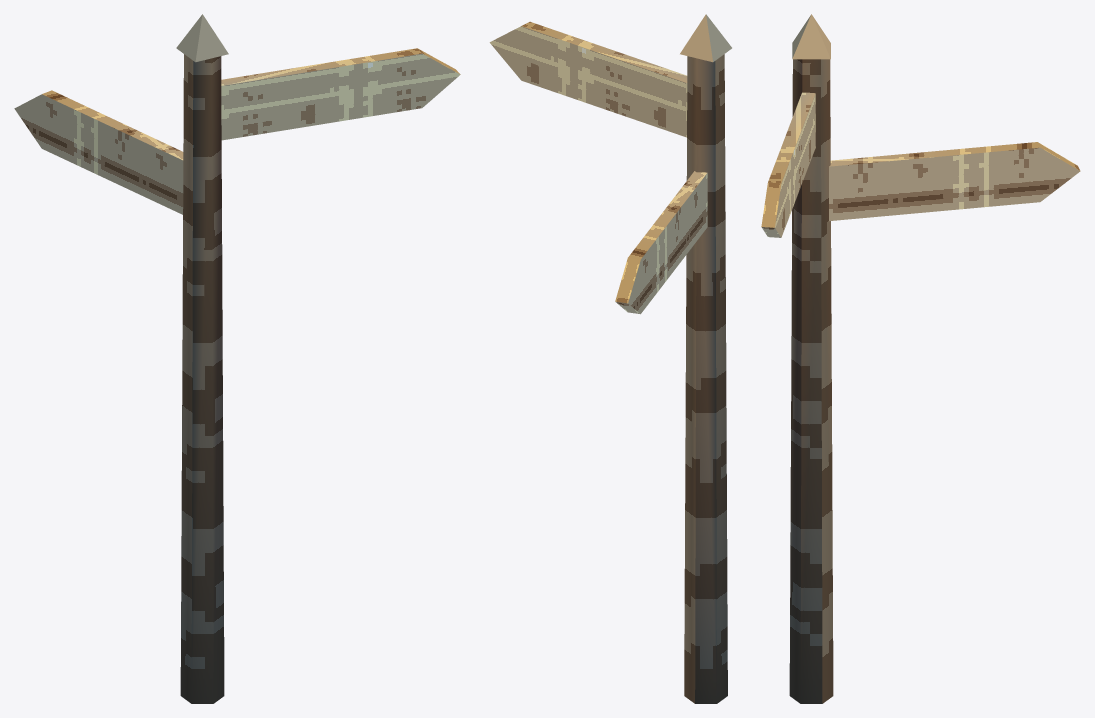
The model's file is wprop.signpost__two.glb.
The picture shows the model from 3 angles, left to right: view 1: azimuth 30°, elevation 25°; view 2: azimuth 150°, elevation 25°; view 3: azimuth 270°, elevation 25°; orthographic projection.
Visible parts, largest first — view 1: kit_post, kit_boards, kit_cap; view 2: kit_post, kit_boards, kit_cap; view 3: kit_post, kit_boards, kit_cap.
Boxes of the visible parts, left/top/right/bottom form: kit_post: left=180, top=54, right=224, bottom=703; kit_boards: left=14, top=48, right=460, bottom=214; kit_cap: left=176, top=14, right=228, bottom=62; kit_post: left=684, top=54, right=727, bottom=703; kit_boards: left=489, top=21, right=707, bottom=314; kit_cap: left=680, top=14, right=731, bottom=62; kit_post: left=789, top=59, right=833, bottom=703; kit_boards: left=761, top=92, right=1080, bottom=237; kit_cap: left=792, top=14, right=830, bottom=59.
Size of the model in its own units: 1.22 by 2.75 by 1.17.
3 materials, 3 textured.
